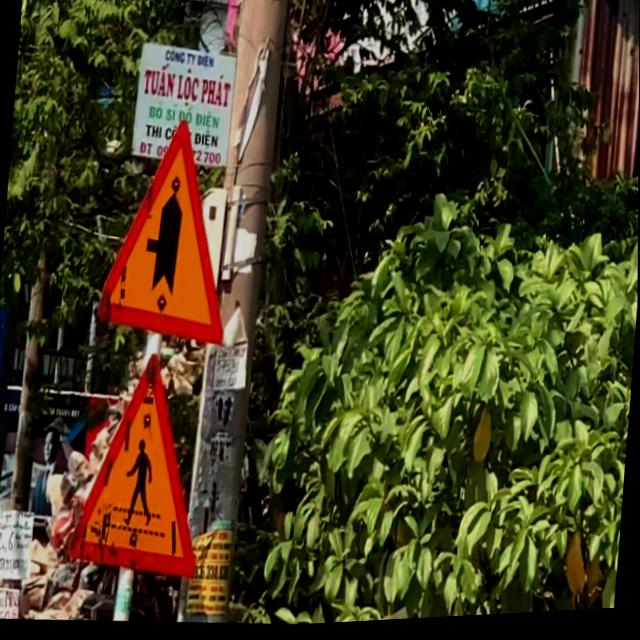Giao nhau voi duong khong uu tien ben trai: (93, 112, 241, 355)
Nguoi di bo cat ngang: (64, 345, 215, 588)
